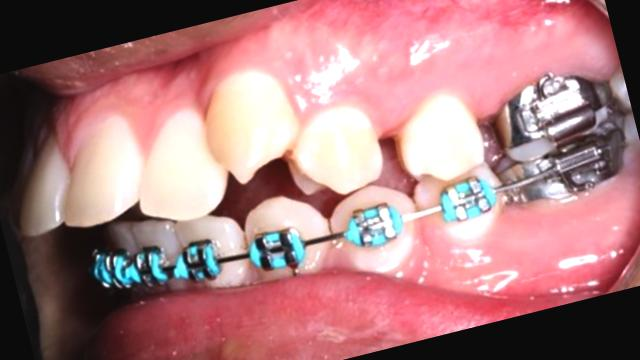canine class II 3/4: (190, 32, 430, 312)
